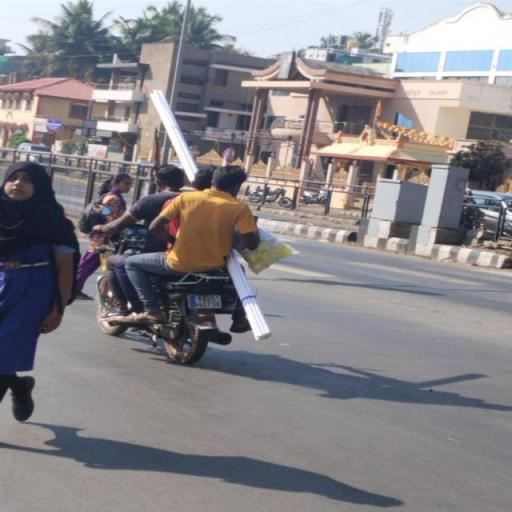tripple riding: (94, 162, 263, 271)
